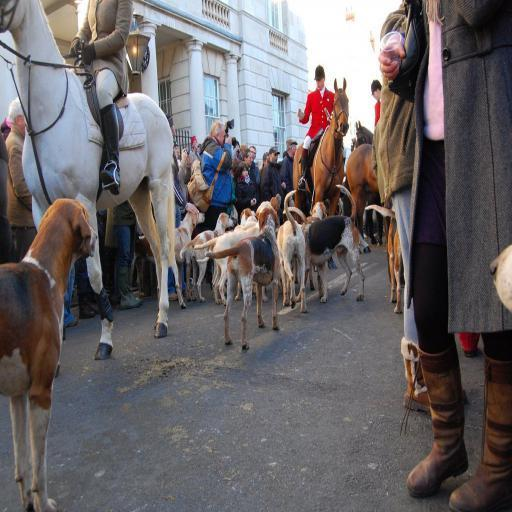horse: (0, 0, 177, 380), (291, 76, 349, 270), (345, 142, 378, 254), (352, 119, 378, 246)
